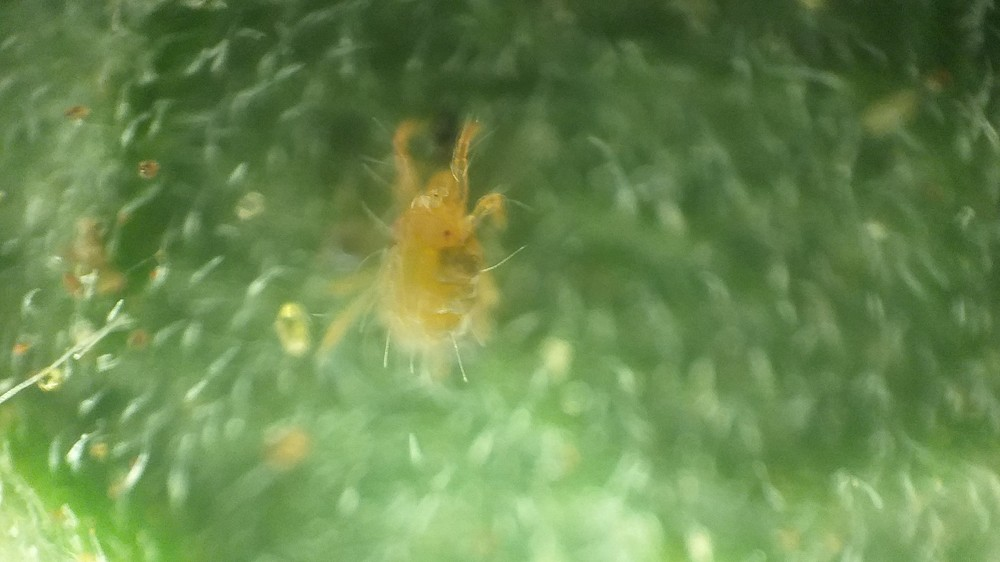Aracnido Rojo: (300, 95, 564, 426)
